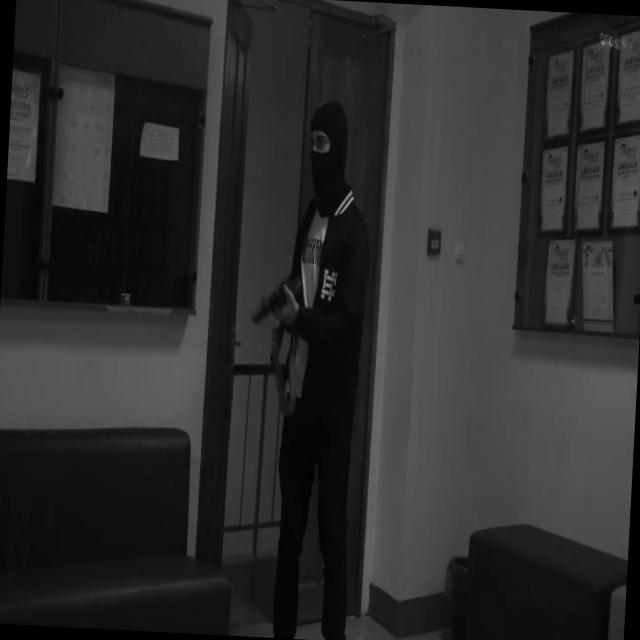gun: (250, 270, 306, 352)
person with a gun: (234, 97, 379, 640)
